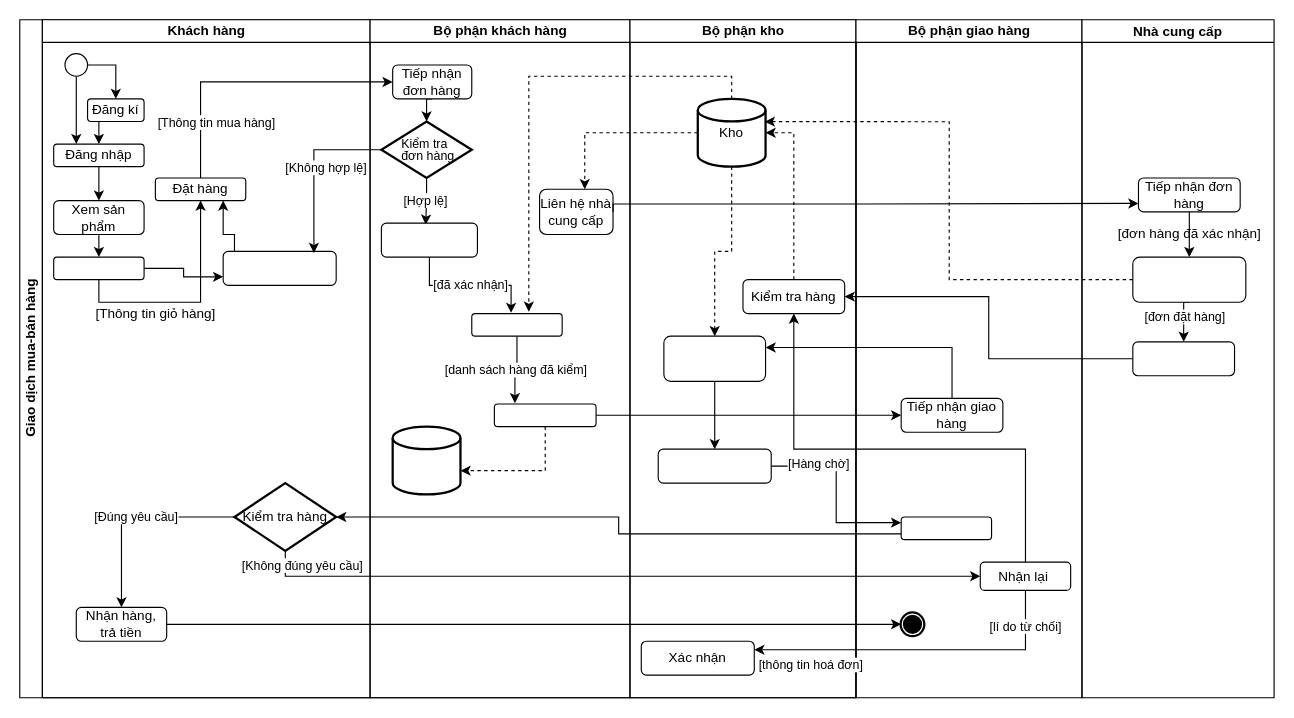
Some shapes in this 1294 by 718 pixel diagram are drawn without their labels. Each missing label, with the centre of its shape:
"Cho vào giỏ" goes at point 98,268.
"Cung cấp hàng" goes at point 1183,358.
"Gọi điện xác nhận" goes at point 428,239.
"Gửi thông báo có hàng hay không" goes at point 1189,279.
"Hoá đơn" goes at point 426,460.
"Kiểm tra hoá đơn xuất kho" goes at point 714,358.
"Kiểm tra kho" goes at point 516,324.
"Lập hoá đơn" goes at point 544,415.
"Lập phiếu xuất kho" goes at point 714,465.
"Đi giao" goes at point 946,528.
"Điều chỉnh đơn hàng" goes at point 279,267.
